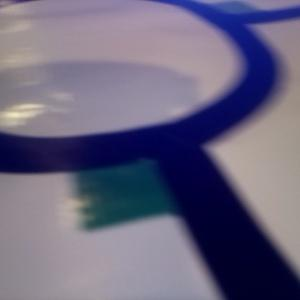bottom_left: (74, 134, 200, 231)
